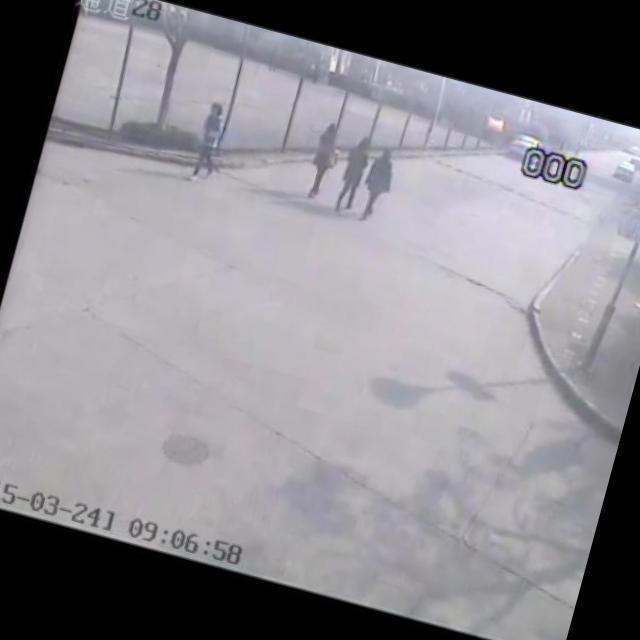person: (183, 96, 236, 189), (299, 116, 346, 208), (329, 128, 378, 215), (354, 144, 402, 229)
